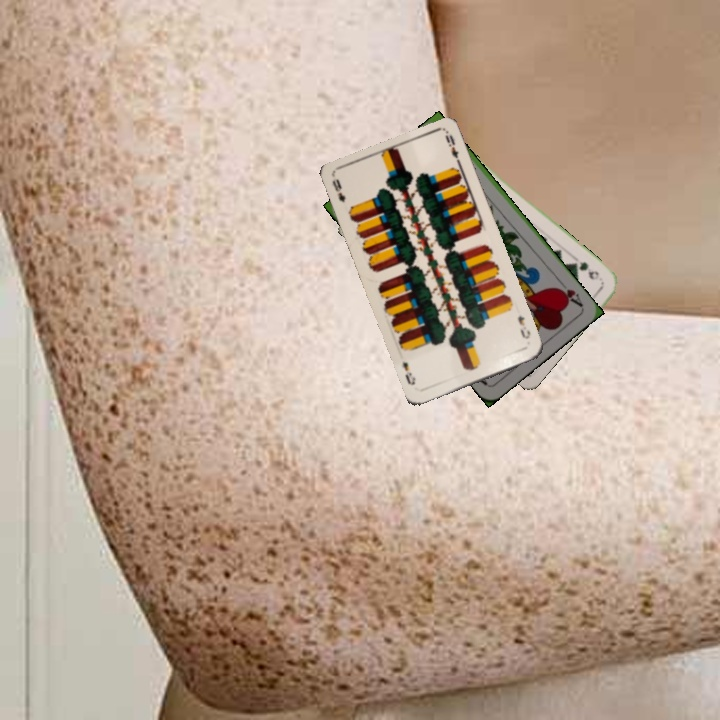E9: (328, 175, 348, 205), (514, 311, 533, 341)
G9: (575, 257, 602, 283)
HA: (552, 277, 585, 310)
